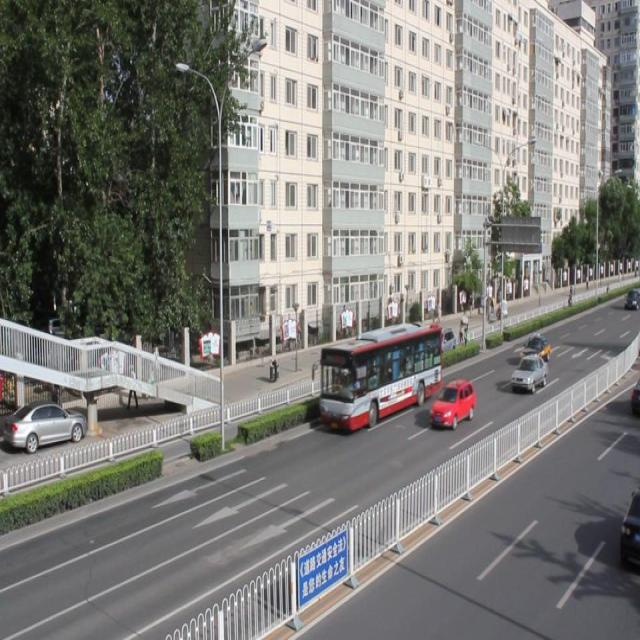car: (429, 377, 474, 425), (618, 481, 640, 568), (510, 352, 548, 391), (519, 332, 550, 363), (430, 325, 456, 354)
van: (319, 322, 441, 431)
